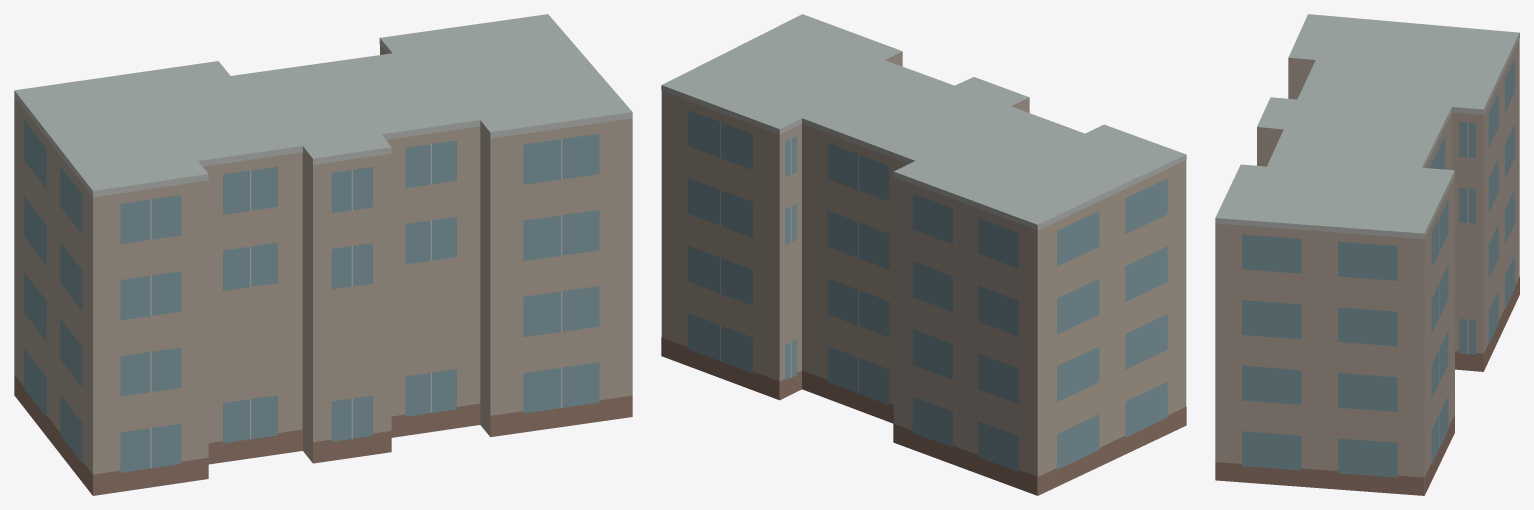
File: survey-upis-32531607.glb
3 views of the same model, side by side, from view 1: azimuth 30°, elevation 25°; view 2: azimuth 150°, elevation 25°; view 3: azimuth 270°, elevation 25° (orthographic). The views are drawn at different scales.
Visible parts, largest first — view 1: survey-upis-32531607.tmp; view 2: survey-upis-32531607.tmp; view 3: survey-upis-32531607.tmp.
Part boxes in pixels (bbox=[...]): survey-upis-32531607.tmp: bbox=[14, 14, 632, 495]; survey-upis-32531607.tmp: bbox=[661, 14, 1186, 495]; survey-upis-32531607.tmp: bbox=[1215, 14, 1519, 495].
Size of the model in its own units: 21.1 by 11.75 by 12.37.
